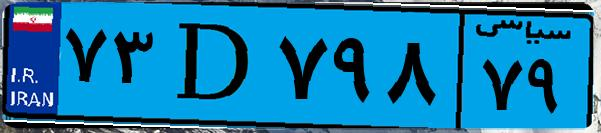3: (110, 28, 158, 98)
7: (270, 28, 330, 110), (57, 26, 110, 100), (475, 38, 525, 113)
8: (385, 28, 445, 110)
9: (330, 28, 385, 110), (525, 38, 570, 115)
D: (158, 12, 270, 120)
